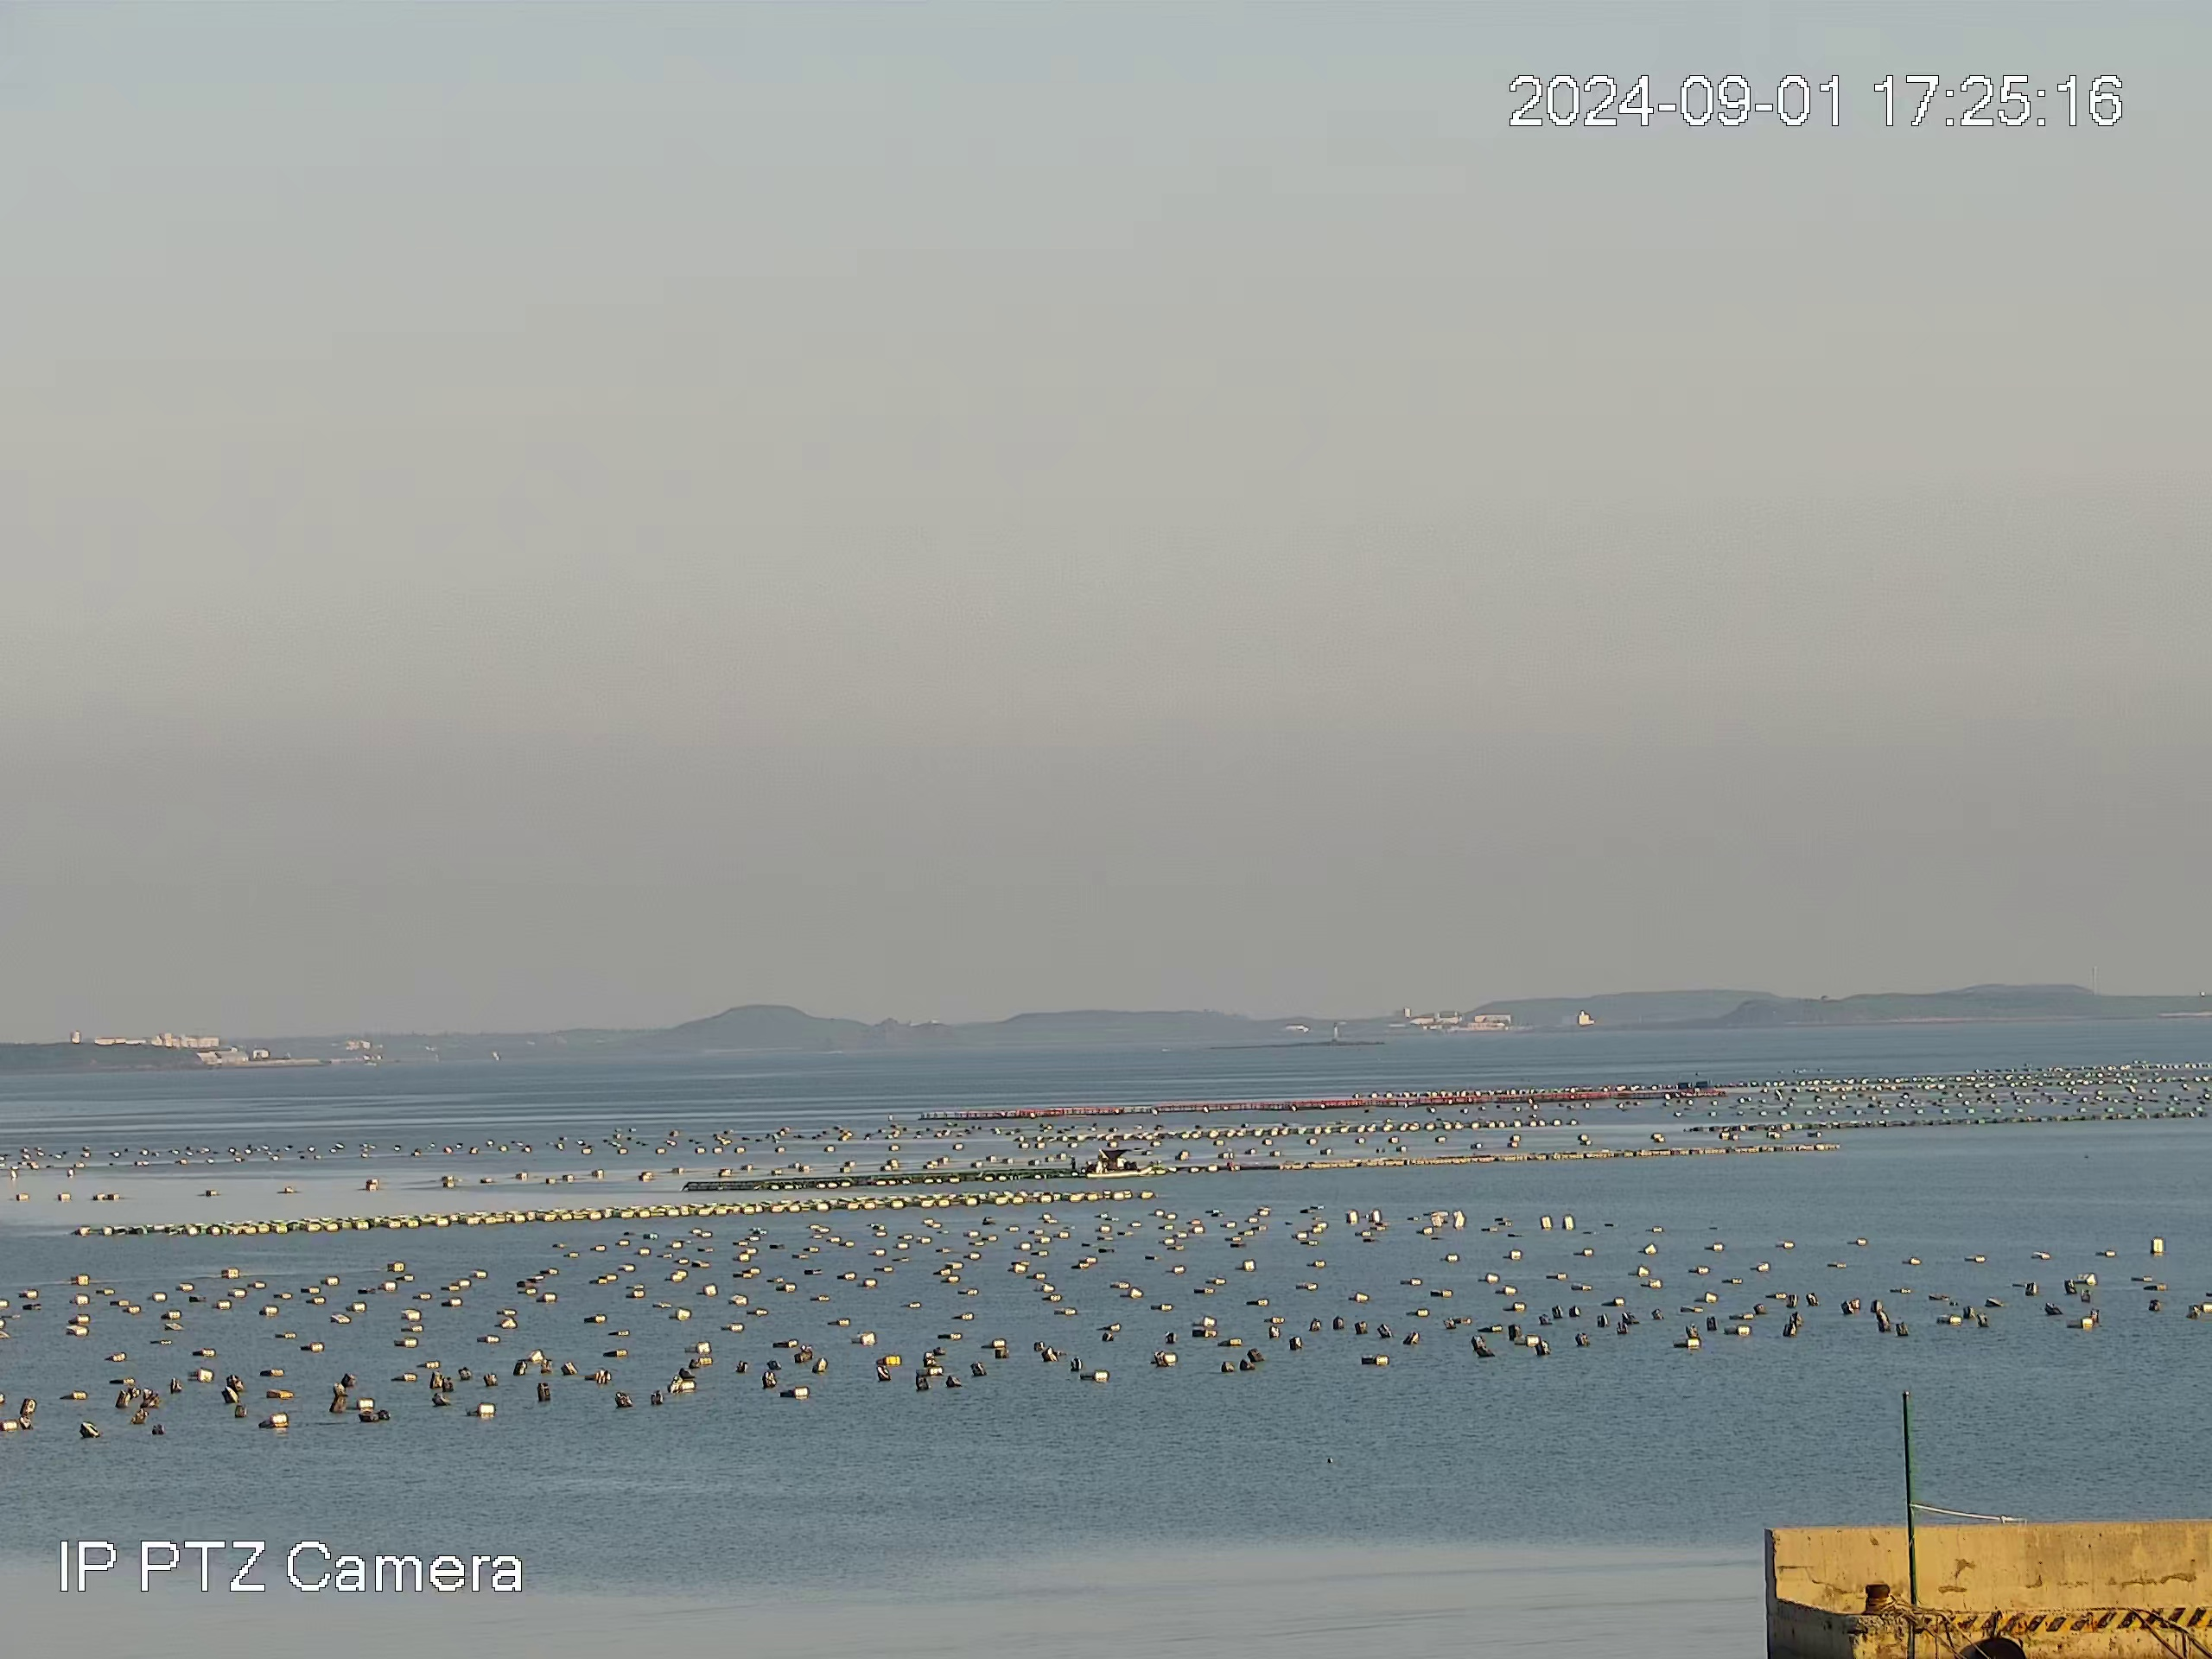boat: (1090, 1150, 1155, 1176)
